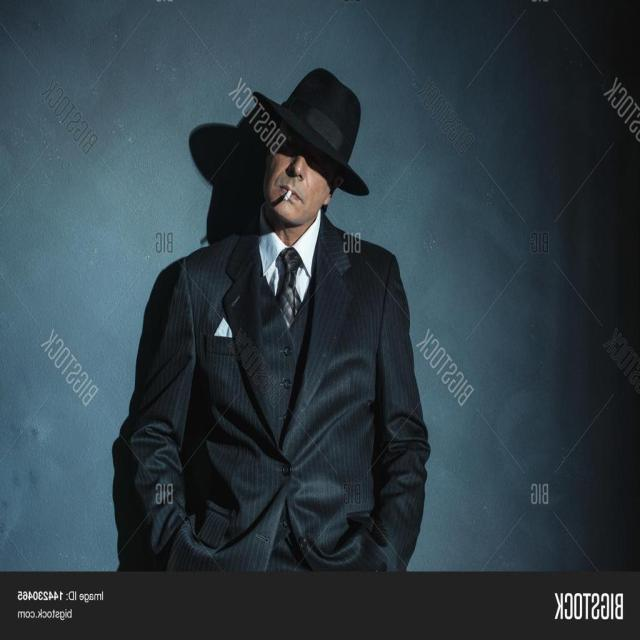smoking: (112, 66, 431, 571)
